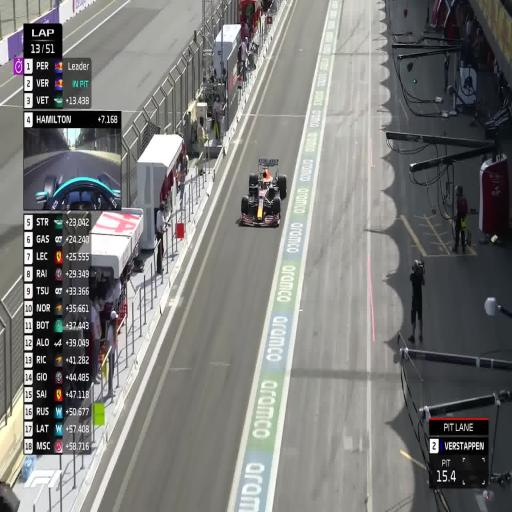f1_car: (240, 159, 287, 226), (36, 174, 121, 210)
